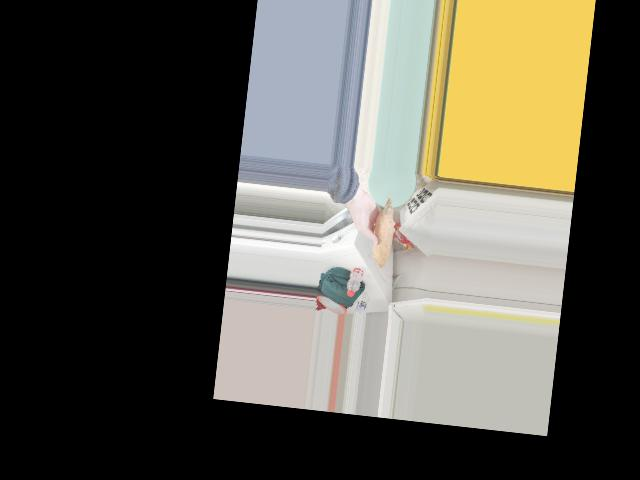sweet_potato: (372, 204, 394, 266)
